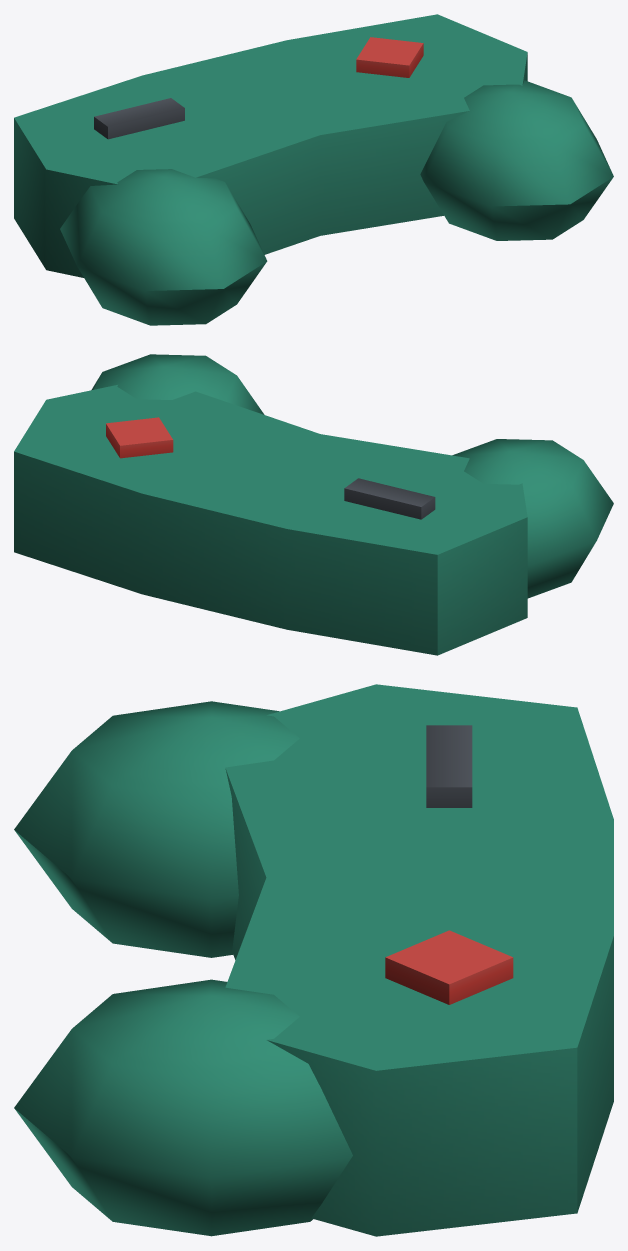
File: dt_game_controller.fbx
3 renders of one model, top to bottom at view 1: azimuth 30°, elevation 25°; view 2: azimuth 150°, elevation 25°; view 3: azimuth 270°, elevation 25°, orthographic. The views are drawn at different scales.
Visible parts, largest first — view 1: dt_game_controller; view 2: dt_game_controller; view 3: dt_game_controller.
Part boxes in pixels (x1=…): dt_game_controller: x1=14, y1=14, x2=613, y2=325; dt_game_controller: x1=14, y1=354, x2=613, y2=655; dt_game_controller: x1=14, y1=684, x2=613, y2=1236.
Size of the model in its own units: 90 by 22.5 by 54.67.
